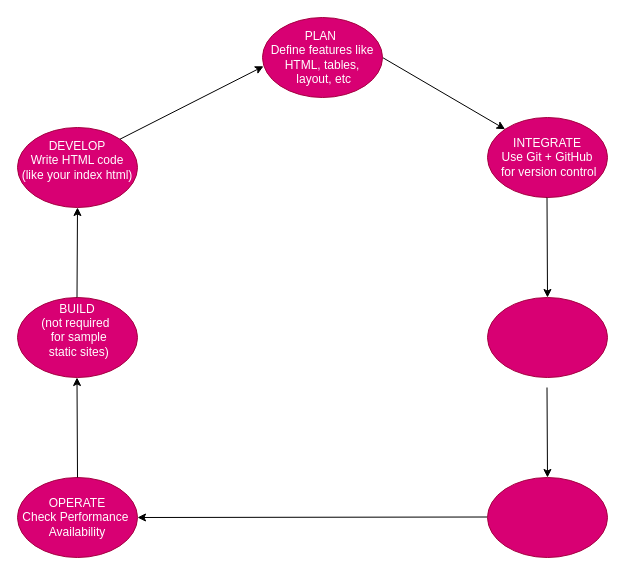
This 625x575 diagram has some shape labels left out. The shapes that lost their labels are listed below. From the top down, each one's centre as x and y in pixels, then its label:
the point at 547,337: DEPLOY Use GitHUb Pages or Netufy to host
the point at 547,517: MONITOR Use GitHub insights Lighthouse
